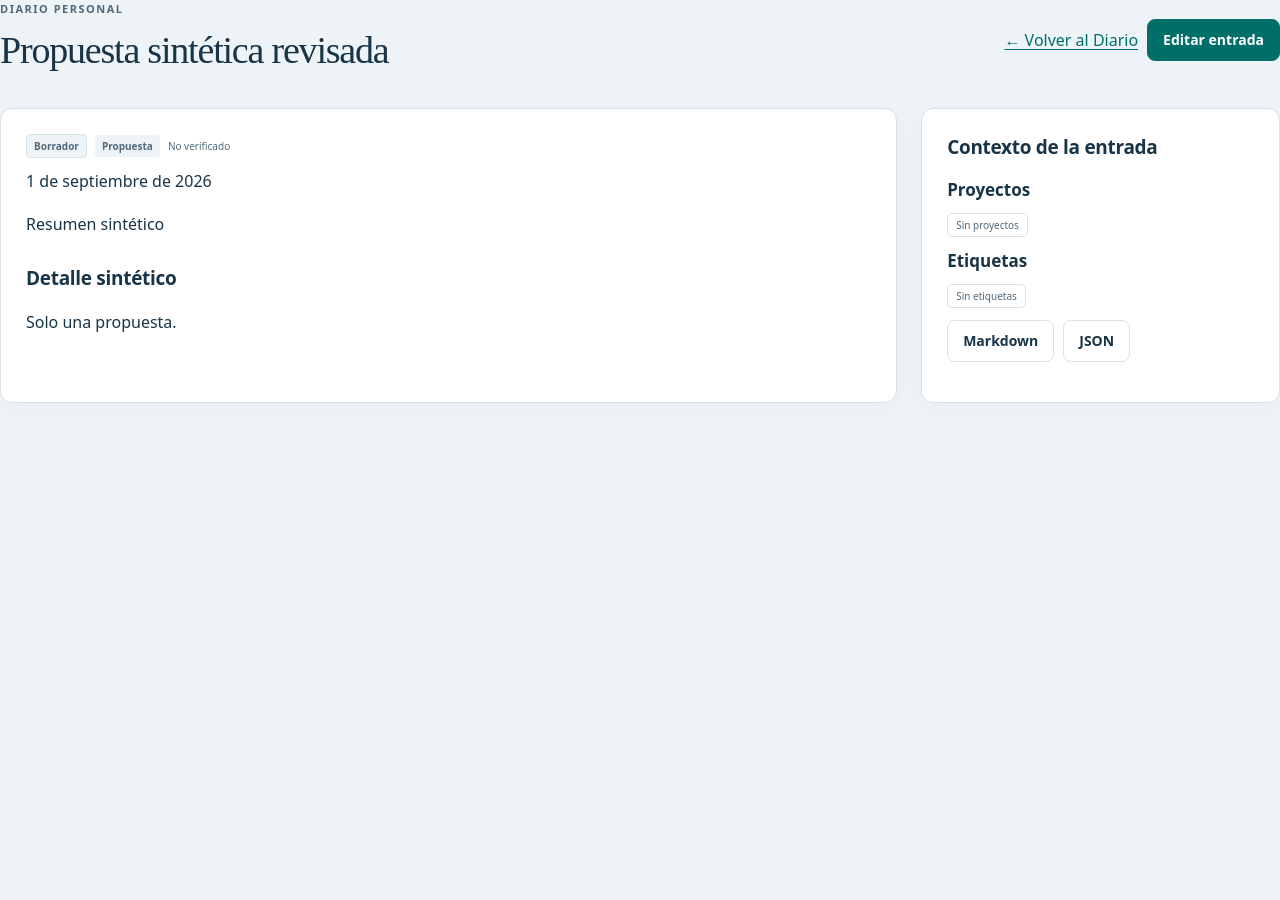
Test: lectura y edición del Diario › mantiene los cambios y el editor si falla el guardado
expect the heading "Propuesta sintética revisada" is shown: met, box [0, 28, 388, 72]
Click the button "Editar entrada".
click(1214, 40)  # box [1147, 19, 1279, 61]
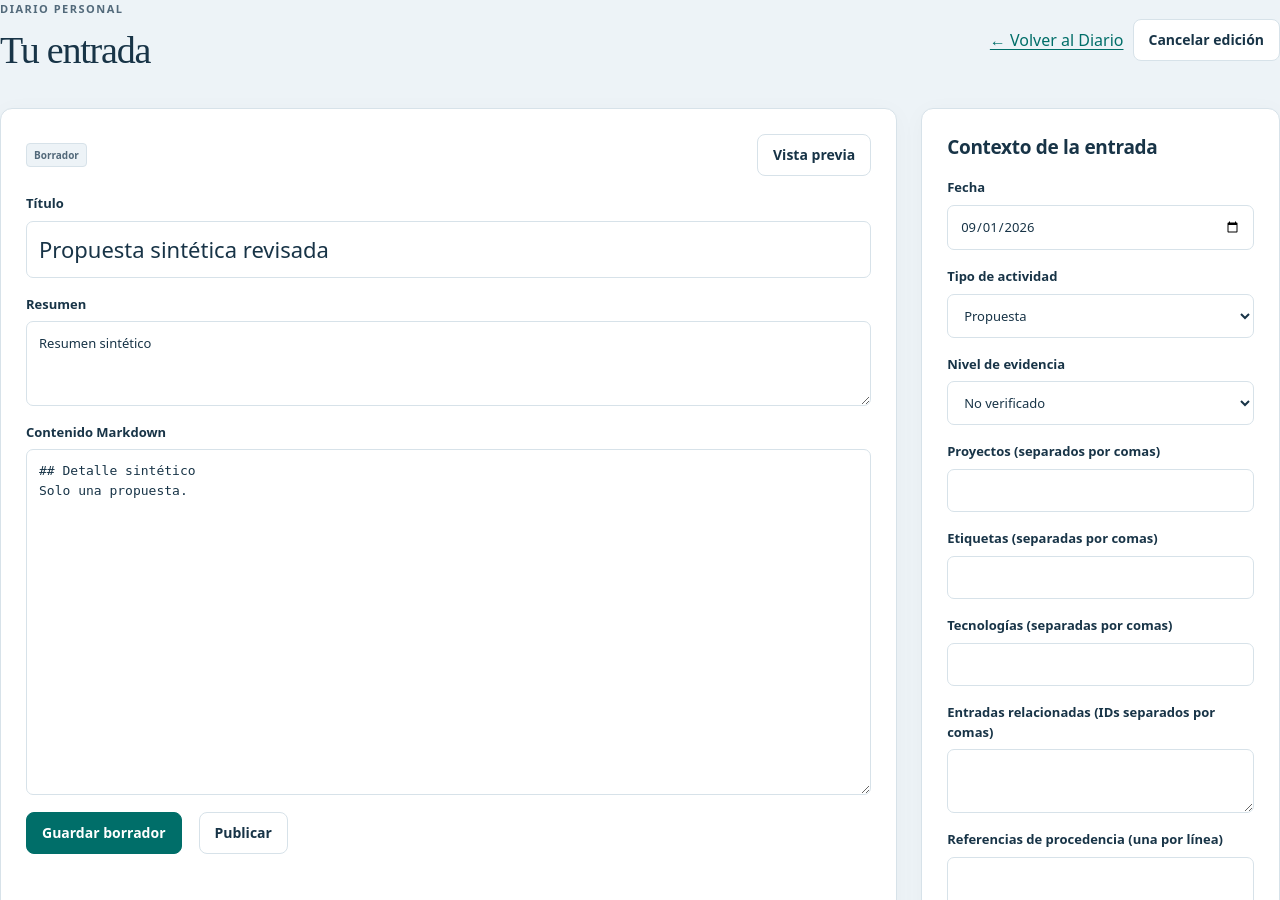
Replace the text in the field labelled "Título" with "Cambio pendiente" at x=449, y=249, box [26, 221, 871, 278]
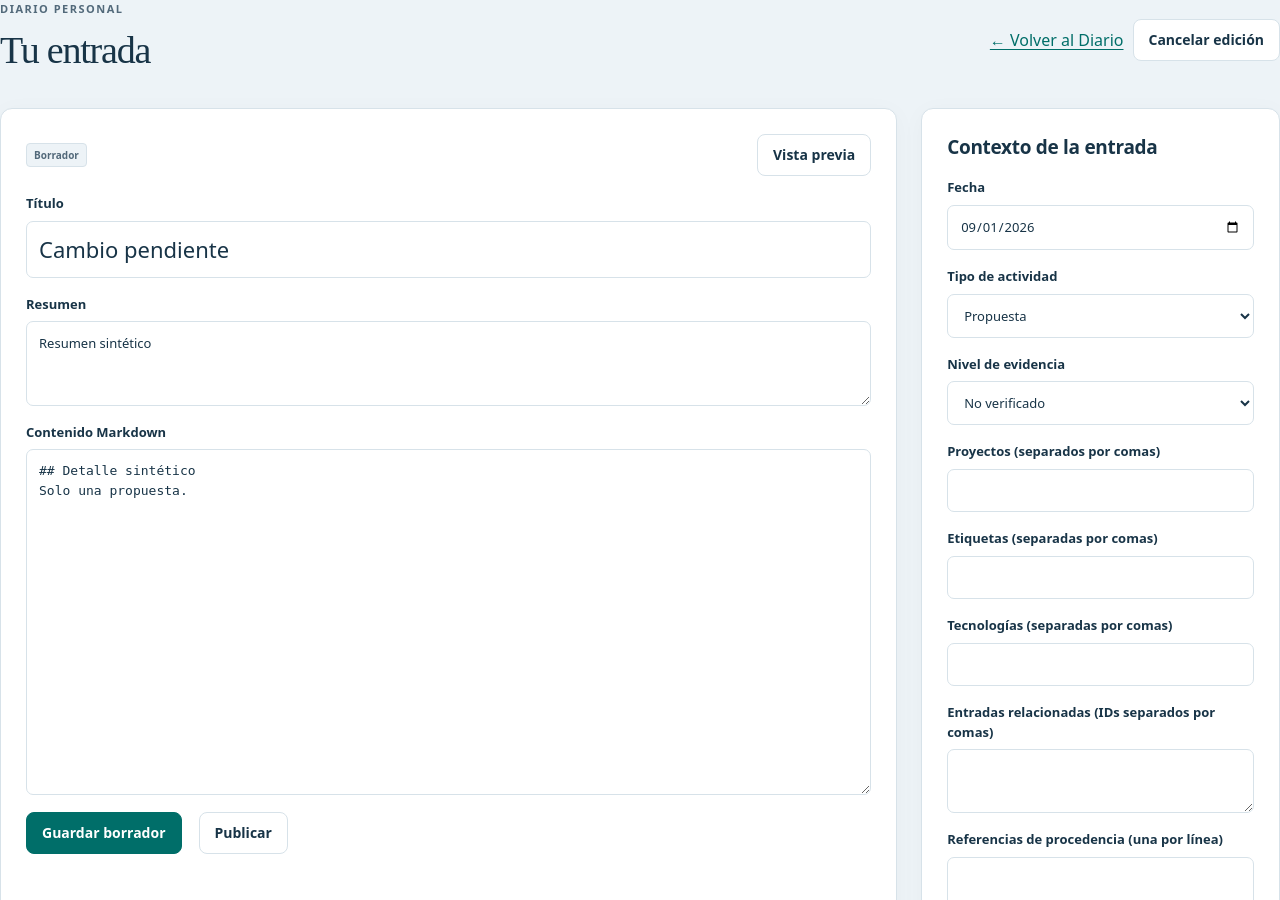
Click the button "Guardar borrador".
click(104, 833)  # box [26, 812, 182, 854]
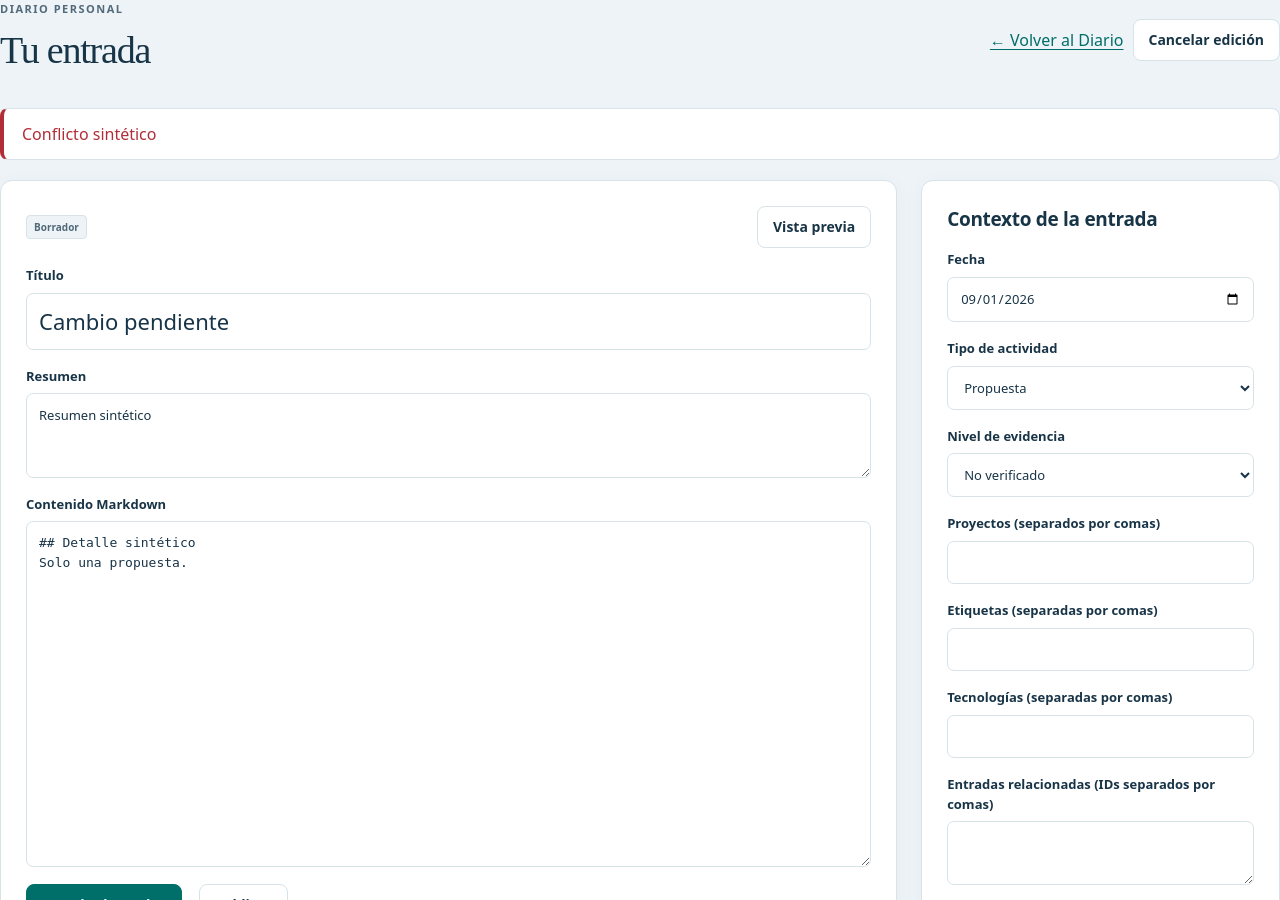
expect the message reads "Conflicto sintético": met, box [22, 123, 156, 145]
